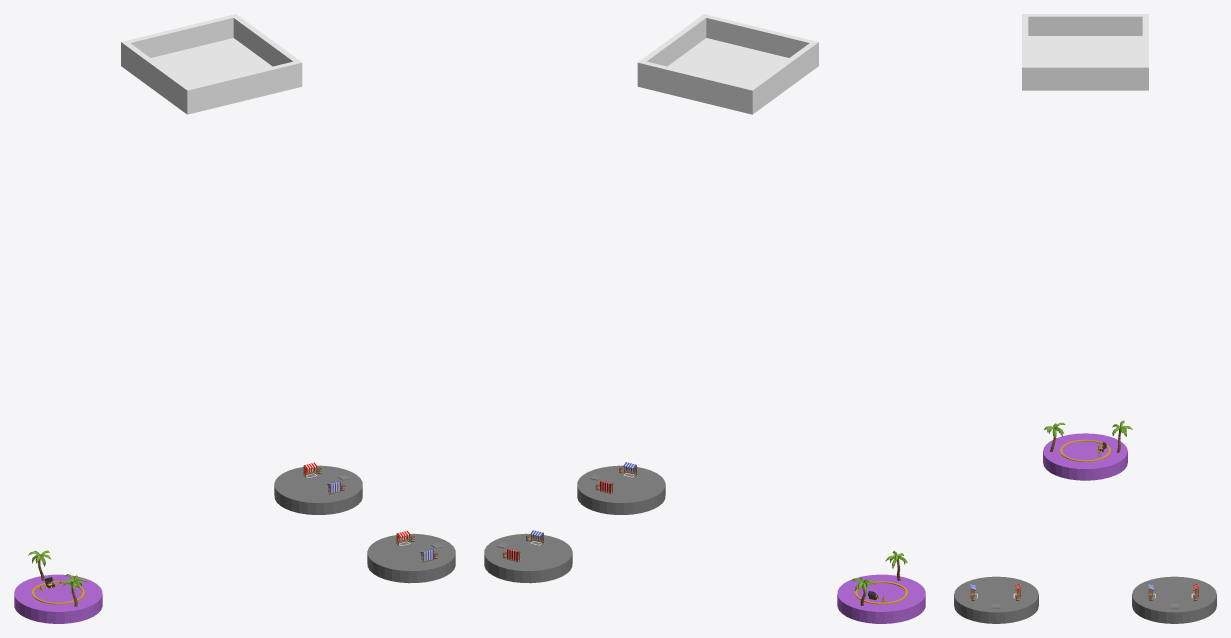
File: bridgeracemap.glb
3 views of the same model, side by side, from view 1: azimuth 30°, elevation 25°; view 2: azimuth 150°, elevation 25°; view 3: azimuth 270°, elevation 25° (orthographic). The views are drawn at different scales.
Parts seen in each view (by area): view 1: waiting room, Circle.001, Circle.002, Circle; view 2: waiting room, Circle.001, Circle.002, Circle; view 3: waiting room, Circle.001, Circle.002, Circle.
Boxes of the visible parts, x1=… form: waiting room: x1=121, y1=14, x2=302, y2=114; Circle.001: x1=367, y1=533, x2=455, y2=583; Circle.002: x1=274, y1=465, x2=362, y2=514; Circle: x1=14, y1=574, x2=102, y2=623; waiting room: x1=637, y1=14, x2=818, y2=114; Circle.001: x1=577, y1=465, x2=665, y2=514; Circle.002: x1=484, y1=533, x2=572, y2=583; Circle: x1=837, y1=574, x2=925, y2=623; waiting room: x1=1022, y1=14, x2=1148, y2=90; Circle.001: x1=954, y1=576, x2=1038, y2=623; Circle.002: x1=1132, y1=576, x2=1216, y2=623; Circle: x1=1043, y1=433, x2=1127, y2=480.
Bounding box in the file's own units: 100 × 128 × 62.
16 materials, 3 textured.
